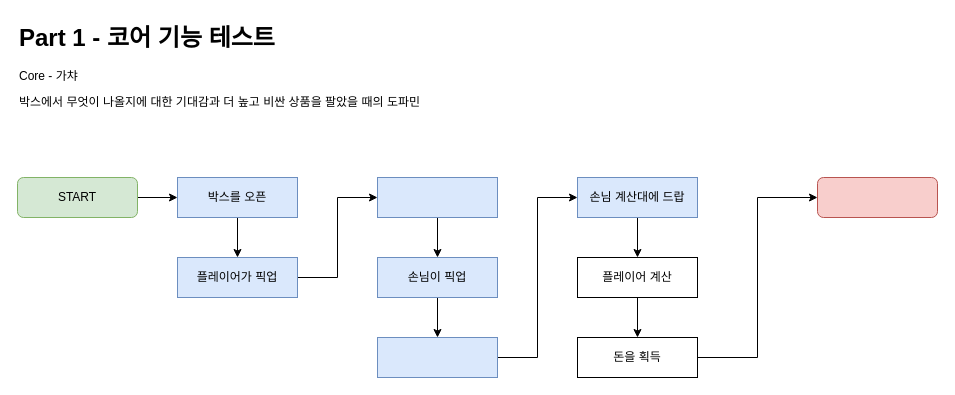
This 955x395 diagram has some shape labels left out. Here are the shapes that lost their labels. From the top down, the centre of each, then its label:
At (x=437, y=197): "판매대에 드랍".
At (x=877, y=197): "END".
At (x=437, y=357): "계산대로 이동".
